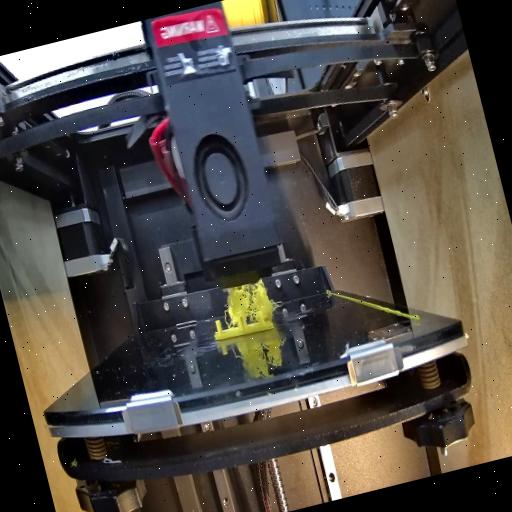spaghetti: (219, 273, 277, 328)
